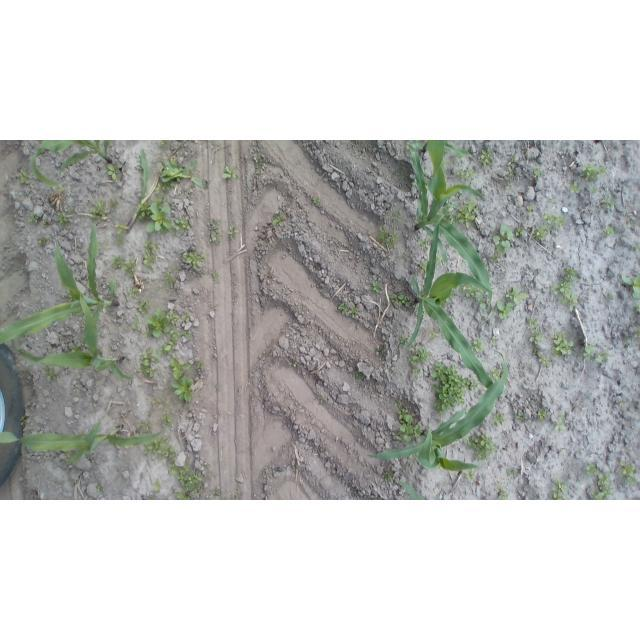Maize: (360, 350, 508, 471), (410, 214, 502, 404), (1, 215, 120, 345), (407, 140, 496, 294), (14, 293, 134, 382), (0, 418, 166, 466), (29, 140, 113, 192), (409, 141, 474, 158), (396, 477, 441, 500)
Weeds: (431, 362, 466, 415), (160, 159, 209, 190), (170, 357, 194, 402), (463, 433, 497, 461), (395, 408, 422, 442), (144, 435, 177, 461), (146, 203, 172, 234), (554, 280, 579, 312), (143, 307, 169, 337), (590, 473, 615, 500), (177, 470, 203, 494), (550, 330, 574, 356), (139, 347, 159, 378), (493, 226, 514, 255), (436, 199, 459, 225), (143, 239, 161, 272), (459, 198, 478, 229), (621, 273, 640, 300), (377, 225, 399, 248), (619, 460, 637, 485), (528, 318, 543, 346), (550, 477, 568, 500), (90, 199, 107, 223), (183, 252, 205, 270), (543, 211, 565, 229), (580, 162, 599, 182), (506, 287, 527, 305), (210, 218, 223, 245), (115, 223, 129, 246), (136, 201, 152, 221), (497, 301, 513, 320), (156, 341, 176, 356), (387, 294, 410, 307), (155, 180, 176, 194), (456, 168, 476, 182), (413, 348, 430, 364), (173, 218, 191, 233), (121, 259, 136, 277), (408, 357, 422, 375), (44, 366, 60, 381), (534, 226, 550, 241), (480, 149, 493, 167), (463, 378, 479, 392), (462, 282, 476, 298), (554, 413, 566, 431), (111, 255, 125, 270), (166, 310, 180, 325), (137, 421, 152, 435), (564, 267, 579, 281), (471, 338, 486, 352), (222, 166, 238, 179), (602, 194, 615, 210), (107, 164, 119, 181), (498, 482, 509, 500), (54, 213, 68, 227), (138, 299, 151, 313), (539, 355, 553, 368), (586, 462, 599, 476), (488, 368, 501, 381), (595, 352, 610, 363), (476, 295, 487, 310), (175, 491, 193, 500), (160, 412, 172, 425), (168, 462, 180, 475), (273, 214, 286, 226), (19, 169, 30, 183), (583, 345, 594, 359), (169, 327, 179, 342), (602, 226, 614, 238), (228, 226, 239, 239), (493, 413, 504, 426), (464, 468, 475, 481), (568, 182, 580, 193), (370, 281, 380, 294), (374, 347, 387, 357), (152, 195, 168, 203), (165, 271, 174, 285), (538, 408, 547, 422), (383, 472, 394, 483), (128, 287, 140, 297), (349, 306, 359, 318), (132, 316, 141, 329), (446, 290, 455, 303), (419, 262, 428, 275), (28, 213, 39, 223), (391, 210, 401, 221), (516, 411, 526, 421), (67, 291, 76, 302), (453, 152, 464, 161), (418, 238, 427, 249), (109, 198, 117, 210), (158, 141, 171, 148), (182, 329, 191, 339), (182, 312, 191, 322), (533, 166, 542, 176), (430, 329, 439, 339), (524, 206, 534, 215), (354, 370, 364, 379), (210, 271, 218, 282), (516, 227, 524, 238), (155, 477, 161, 491), (423, 172, 429, 186), (506, 468, 516, 476), (400, 337, 408, 347), (410, 342, 418, 352), (338, 304, 348, 312), (312, 196, 320, 205), (633, 303, 640, 313), (490, 254, 498, 262), (197, 360, 204, 369), (97, 484, 104, 493), (71, 344, 78, 353), (628, 220, 637, 227), (437, 255, 444, 264), (184, 461, 190, 471), (409, 453, 419, 459), (253, 154, 260, 162), (39, 236, 46, 244), (477, 287, 484, 295), (67, 206, 73, 215), (635, 328, 640, 338), (42, 220, 49, 227), (261, 163, 268, 170), (511, 156, 518, 163), (403, 254, 410, 261), (599, 166, 605, 174), (21, 416, 26, 425), (414, 179, 419, 188), (319, 396, 324, 405), (210, 491, 216, 498), (591, 187, 597, 193), (634, 245, 640, 251), (607, 292, 613, 298), (63, 453, 70, 458), (533, 349, 538, 356), (621, 401, 626, 408), (508, 170, 513, 177), (550, 199, 555, 206), (151, 399, 157, 404), (443, 158, 448, 164), (395, 400, 400, 406), (622, 337, 628, 342), (445, 149, 449, 156), (442, 482, 447, 487), (402, 494, 407, 499), (414, 307, 419, 312), (87, 283, 91, 289), (116, 323, 121, 327), (491, 338, 496, 342), (526, 365, 531, 369), (147, 497, 153, 500), (626, 212, 630, 216), (536, 487, 540, 491), (293, 363, 297, 367), (344, 244, 348, 248), (71, 405, 75, 408), (559, 448, 562, 452), (201, 273, 203, 276), (374, 499, 377, 500)
